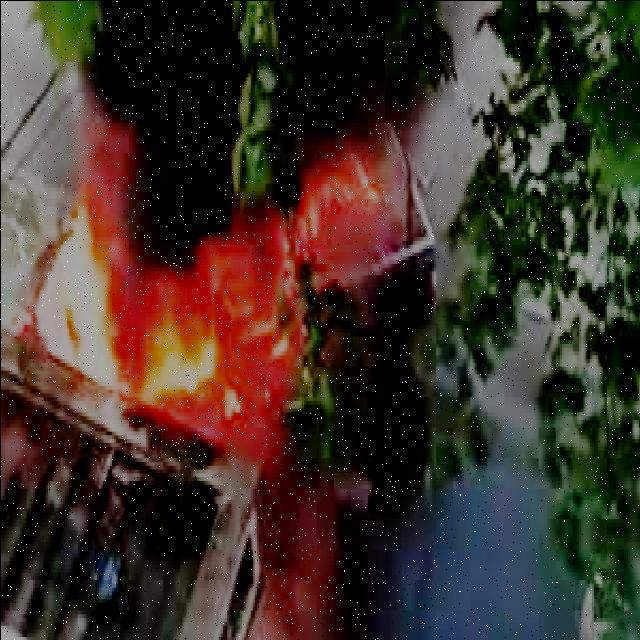api: (25, 127, 419, 470)
